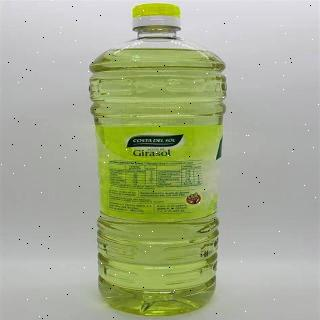Plastic-bottle: (89, 1, 233, 317)
